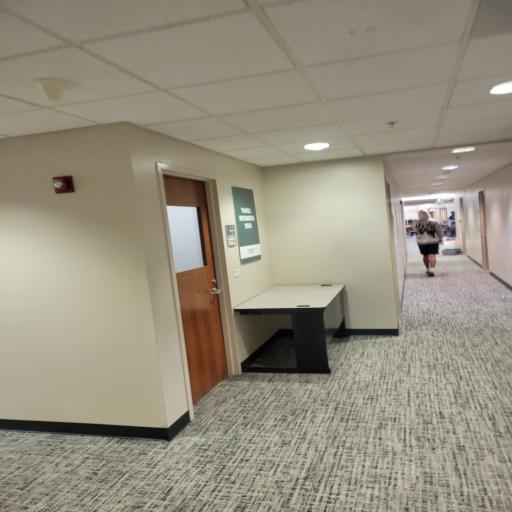door: (156, 164, 231, 390)
fire alarm signal: (40, 172, 77, 196)
table: (236, 274, 346, 386)
water sprinkler: (382, 115, 404, 133)
